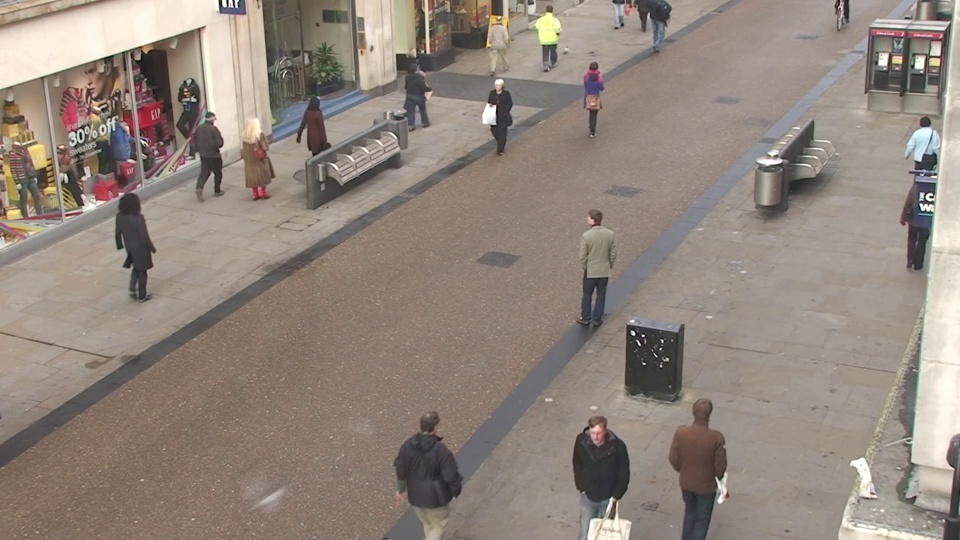pedestrian: (671, 388, 729, 540), (404, 400, 461, 540), (568, 409, 623, 540), (109, 190, 158, 303), (576, 203, 614, 323), (898, 112, 944, 210), (239, 112, 275, 205), (195, 106, 231, 197), (299, 93, 332, 181), (486, 75, 515, 160), (400, 60, 429, 140), (580, 58, 607, 138), (399, 45, 427, 121), (486, 13, 510, 80), (537, 3, 559, 68)
